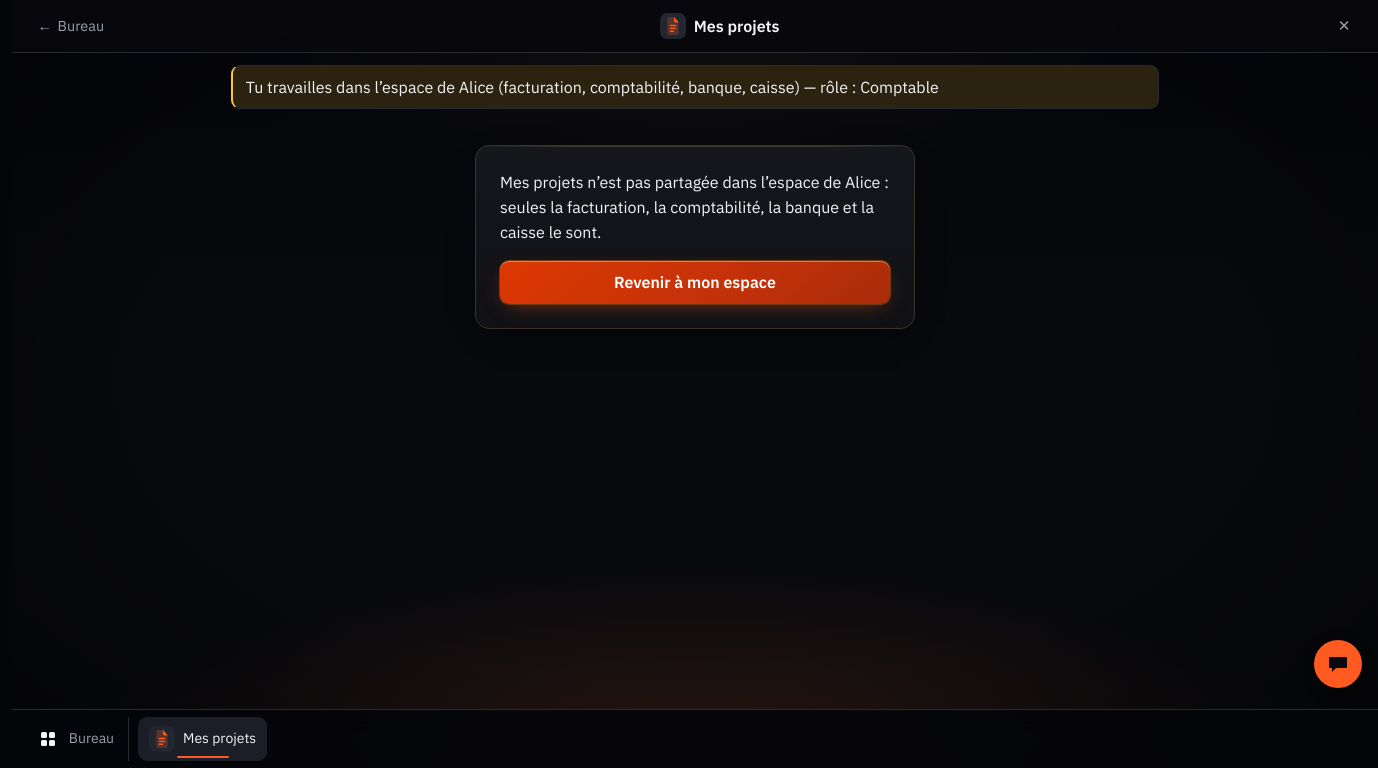
it: Systeme — l’espace argent › « Revenir à mon espace » depuis une application hors argent
Step 1. Click the button "Revenir à mon espace" → x=695, y=282, box left=500, top=261, right=890, bottom=304
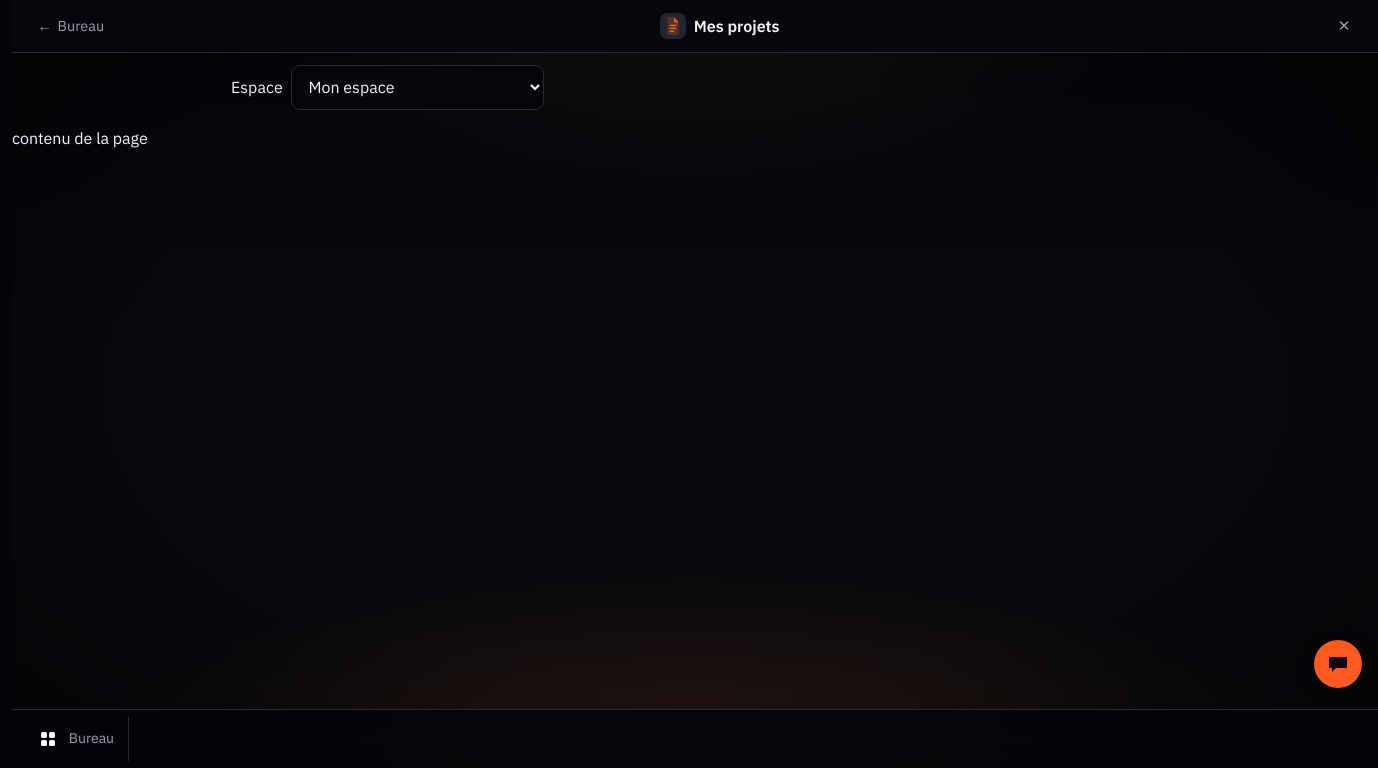
Check: the text "contenu de la page" is shown, box left=12, top=128, right=148, bottom=148
